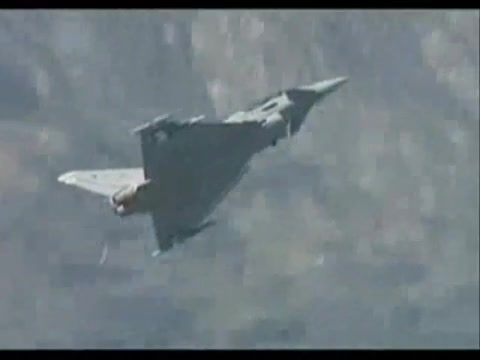aeroplane: (58, 76, 352, 260)
